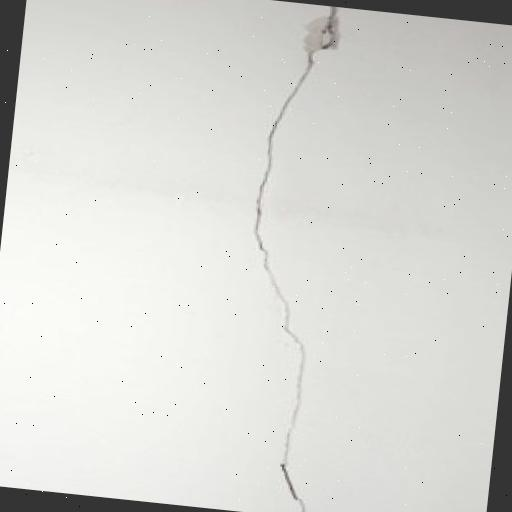spalling: (245, 10, 351, 512)
